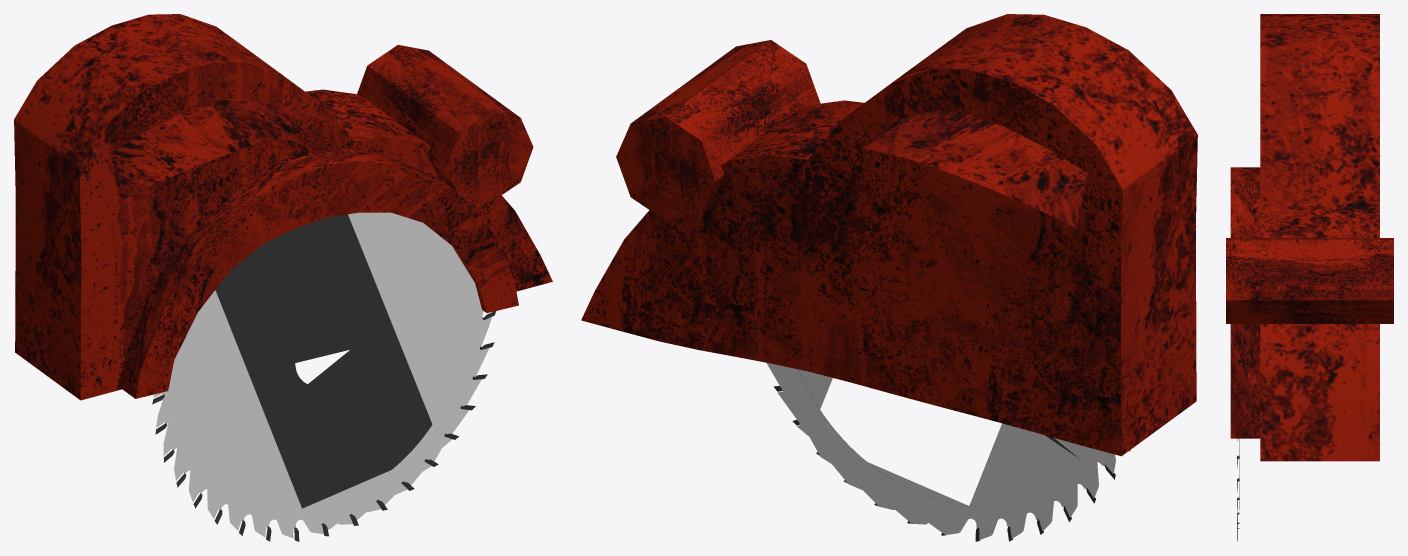
Rendered from Cierra.fbx.
The picture shows the model from 3 angles, left to right: view 1: azimuth 30°, elevation 25°; view 2: azimuth 150°, elevation 25°; view 3: azimuth 270°, elevation 25°; orthographic projection. The views are drawn at different scales.
Parts seen in each view (by area): view 1: MaquinaCierra, Circular saw blade, ParteMaquinaCierra, ParteMaquinariaCierra; view 2: MaquinaCierra, ParteMaquinariaCierra, Circular saw blade; view 3: MaquinaCierra, ParteMaquinariaCierra, ParteMaquinaCierra.
Boxes of the visible parts, <box> form: MaquinaCierra: <box>14,14,552,400</box>; Circular saw blade: <box>152,212,496,541</box>; ParteMaquinaCierra: <box>119,149,518,398</box>; ParteMaquinariaCierra: <box>357,44,533,202</box>; MaquinaCierra: <box>581,14,1197,456</box>; ParteMaquinariaCierra: <box>616,40,820,220</box>; Circular saw blade: <box>766,362,1130,541</box>; MaquinaCierra: <box>1260,14,1379,461</box>; ParteMaquinariaCierra: <box>1226,238,1393,323</box>; ParteMaquinaCierra: <box>1230,167,1260,438</box>.
Size of the model in its own units: 287 by 284 by 96.61.
Materials: 3 (1 with a texture image).
